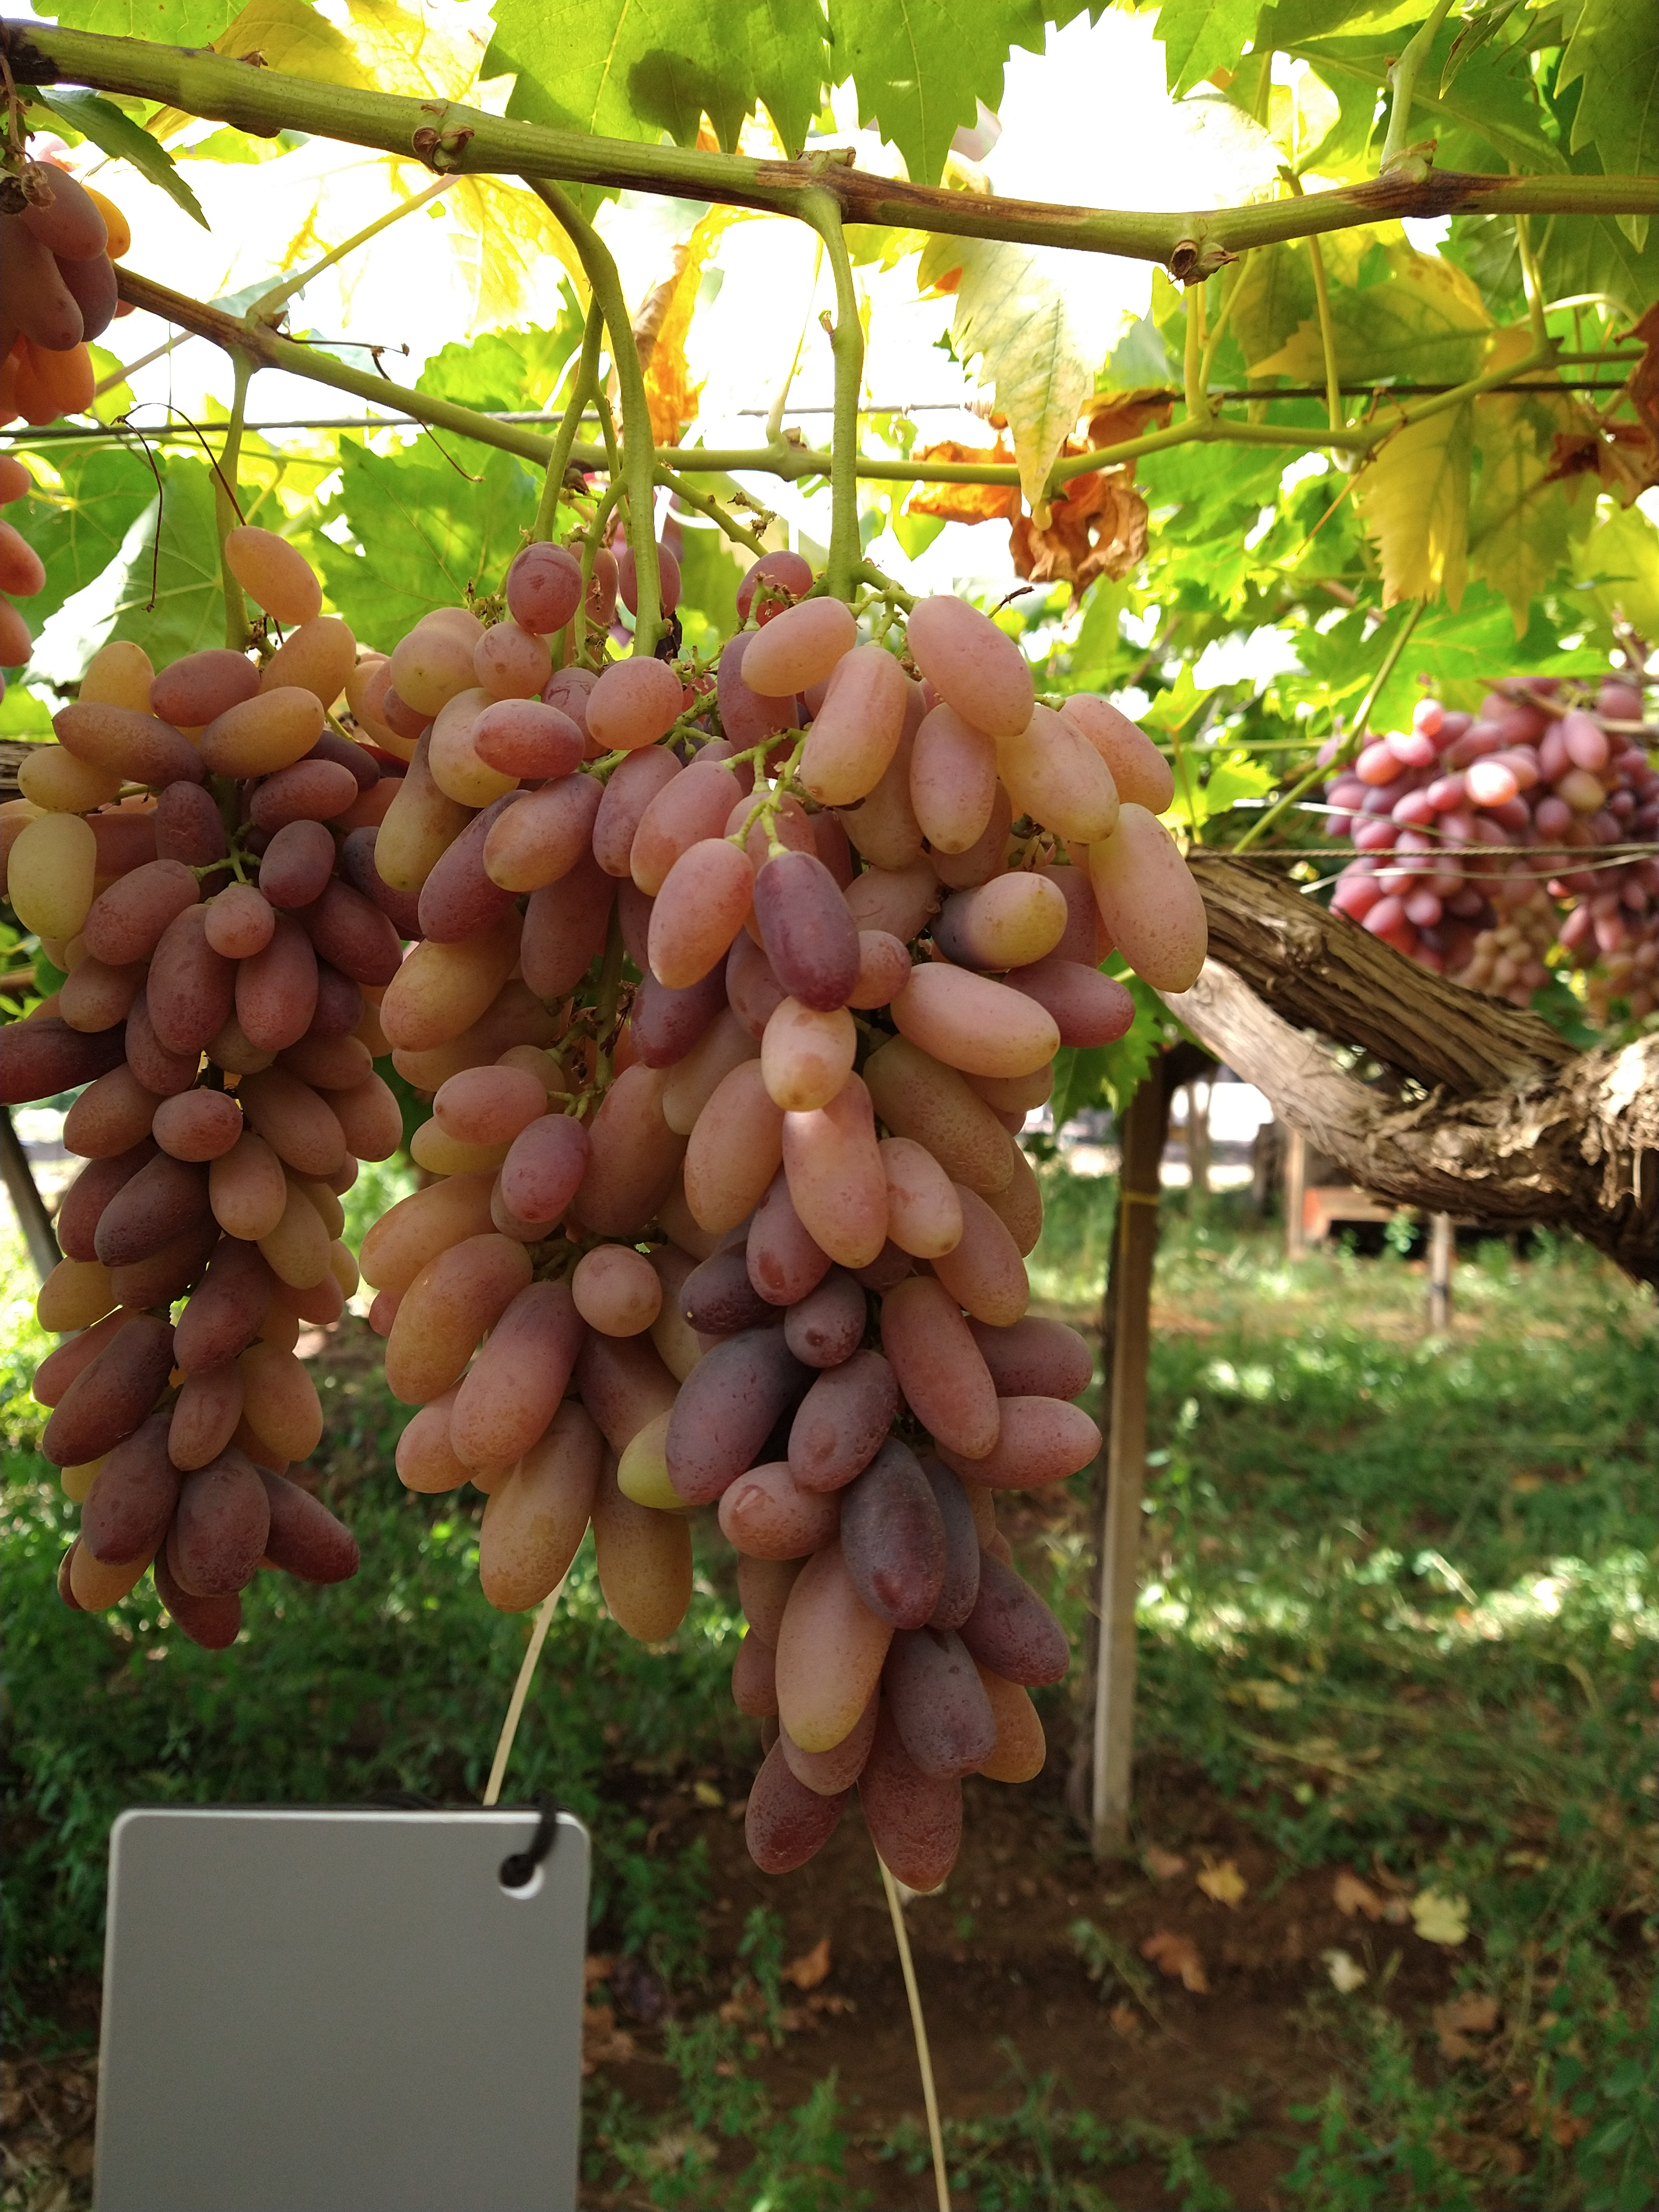acino: (448, 1278, 582, 1475), (382, 1237, 532, 1400), (772, 1557, 890, 1756), (662, 1329, 791, 1508), (1087, 815, 1211, 995), (40, 1312, 176, 1470), (887, 1277, 1000, 1460), (889, 958, 1060, 1078), (476, 1446, 594, 1615), (838, 1453, 946, 1635), (751, 848, 863, 1014), (798, 644, 906, 810), (885, 1627, 999, 1784), (643, 833, 755, 991), (1006, 697, 1122, 845), (856, 1737, 964, 1893), (80, 1416, 190, 1568), (683, 1073, 784, 1237), (786, 1353, 896, 1491), (176, 1446, 274, 1594), (716, 1456, 845, 1562), (596, 1503, 692, 1644), (910, 632, 1037, 738), (380, 934, 493, 1052), (82, 857, 202, 967), (936, 871, 1068, 970), (908, 704, 995, 853), (5, 810, 101, 946), (49, 704, 211, 784), (143, 913, 232, 1057), (94, 1157, 204, 1268), (742, 1764, 847, 1879), (755, 996, 857, 1113), (742, 1183, 833, 1312), (974, 1564, 1068, 1688), (873, 1130, 962, 1261), (479, 784, 586, 892), (936, 1207, 1030, 1329), (171, 1261, 270, 1376), (988, 1393, 1105, 1489), (261, 1480, 362, 1588), (518, 880, 608, 1000), (298, 885, 404, 986), (221, 524, 324, 627), (498, 1111, 589, 1226), (240, 1343, 324, 1467), (164, 1355, 249, 1474), (234, 942, 322, 1054), (204, 688, 324, 770), (568, 1242, 666, 1341), (584, 657, 685, 752), (204, 1127, 288, 1242), (986, 1312, 1094, 1399), (413, 843, 504, 946), (430, 1062, 544, 1144), (472, 698, 582, 782), (638, 758, 741, 846), (58, 1069, 152, 1158), (265, 1082, 352, 1177), (237, 758, 362, 824), (972, 1677, 1049, 1785), (1047, 961, 1138, 1050), (387, 627, 474, 719), (786, 1273, 870, 1369), (678, 1242, 762, 1338), (150, 648, 256, 723), (389, 1402, 471, 1498), (502, 543, 582, 636), (258, 817, 338, 909), (261, 617, 357, 691), (153, 1087, 247, 1162), (333, 1066, 404, 1162), (631, 981, 711, 1066), (258, 1200, 333, 1291), (471, 622, 554, 700), (31, 1256, 117, 1332), (150, 779, 225, 866), (739, 634, 836, 700), (56, 953, 134, 1035), (204, 880, 281, 960), (77, 641, 153, 714), (854, 925, 913, 1008), (169, 1588, 239, 1649)
